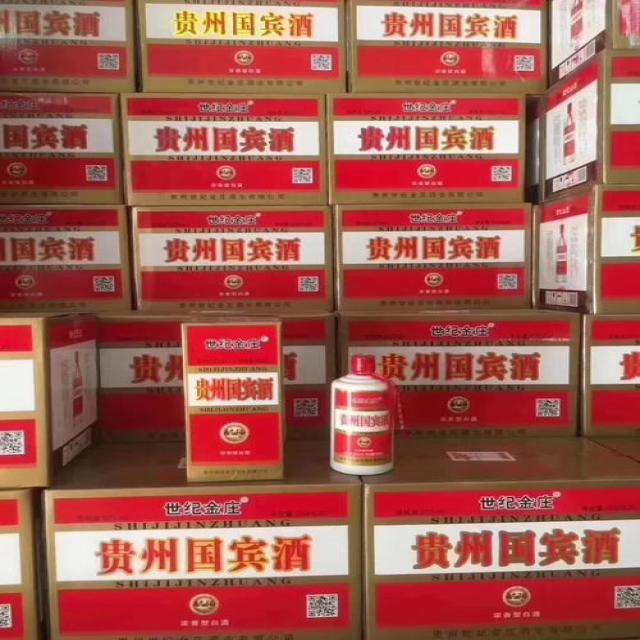box: (43, 439, 362, 639), (359, 436, 639, 639), (97, 311, 337, 443), (335, 309, 579, 437), (120, 92, 328, 206), (326, 92, 525, 205), (127, 206, 333, 311), (332, 203, 532, 311), (345, 0, 547, 101), (136, 0, 345, 93), (0, 312, 97, 488), (183, 319, 285, 481), (541, 49, 639, 203), (0, 205, 131, 312), (1, 92, 124, 204), (536, 184, 639, 314), (0, 0, 136, 92), (547, 0, 639, 90), (0, 487, 50, 639), (579, 314, 639, 438), (524, 96, 543, 205)
